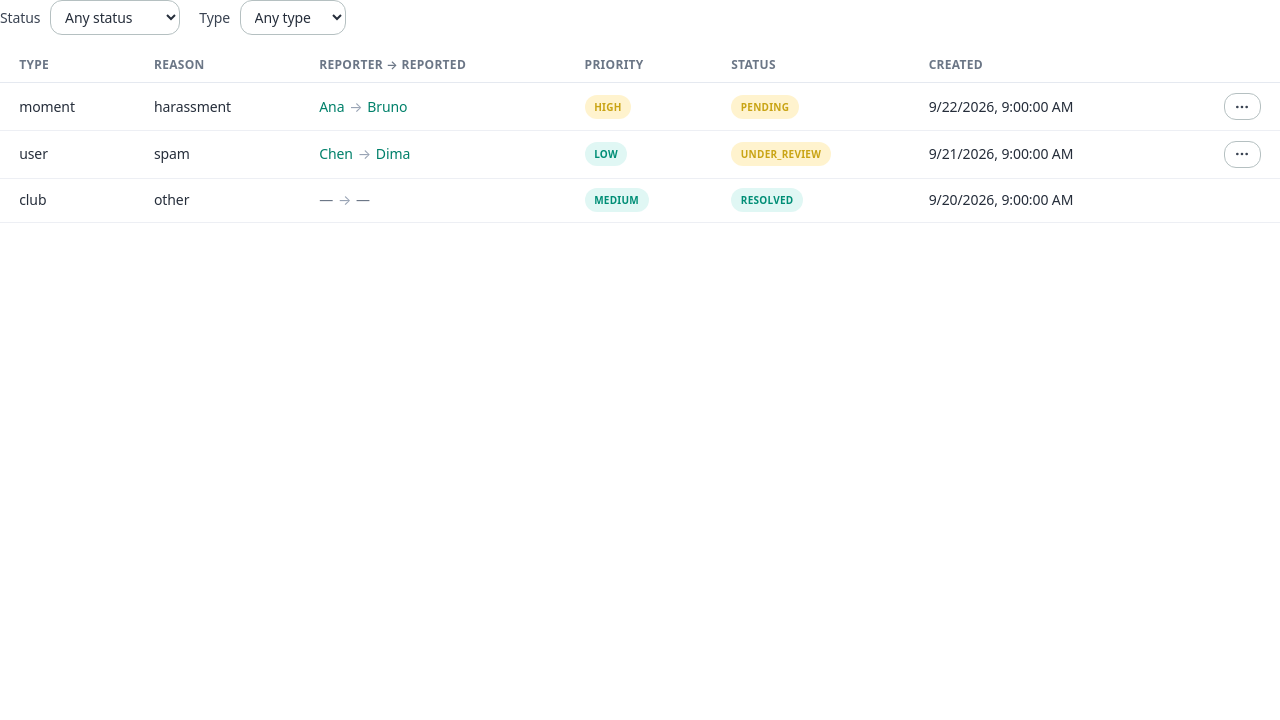
Test case: resolves with the chosen moderator action and notes
This screenshot has width=1280, height=720.
Click the button named "Report actions" in the row of "moment" at [1242, 107], box [1224, 93, 1261, 120]
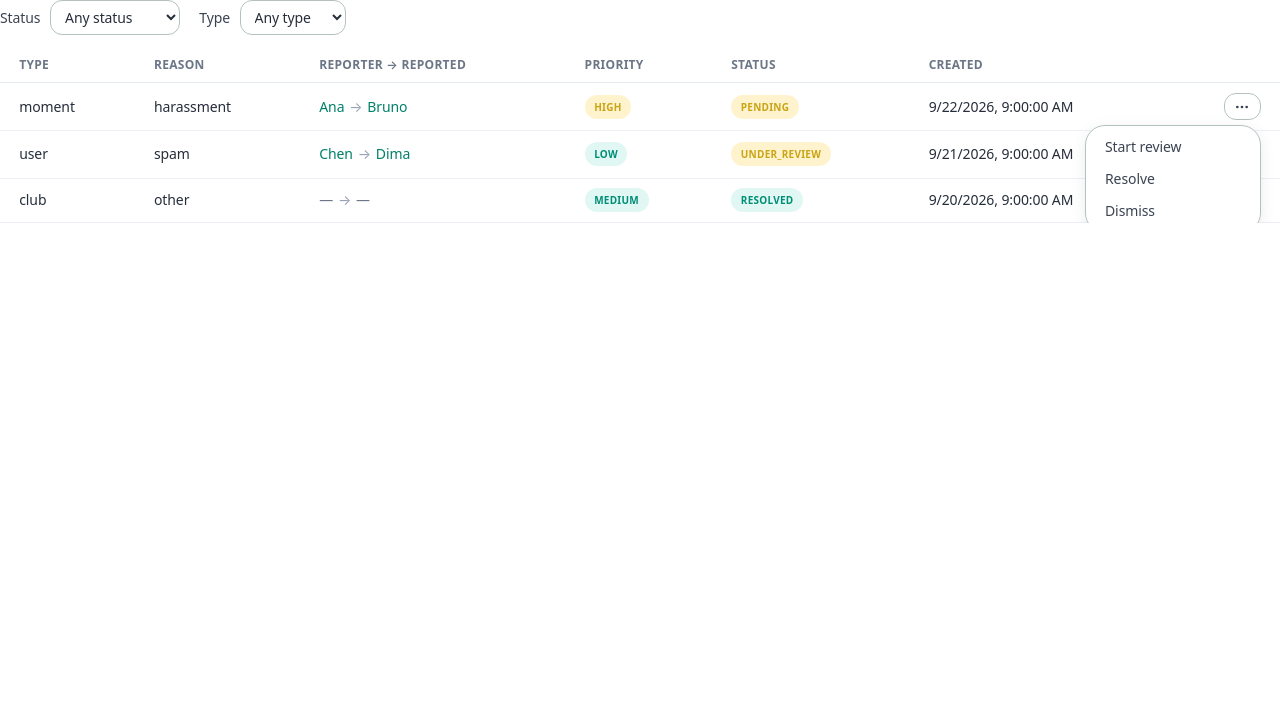
Click the menu item with test id "report-resolve-r1" at [1173, 179], box [1086, 163, 1260, 195]
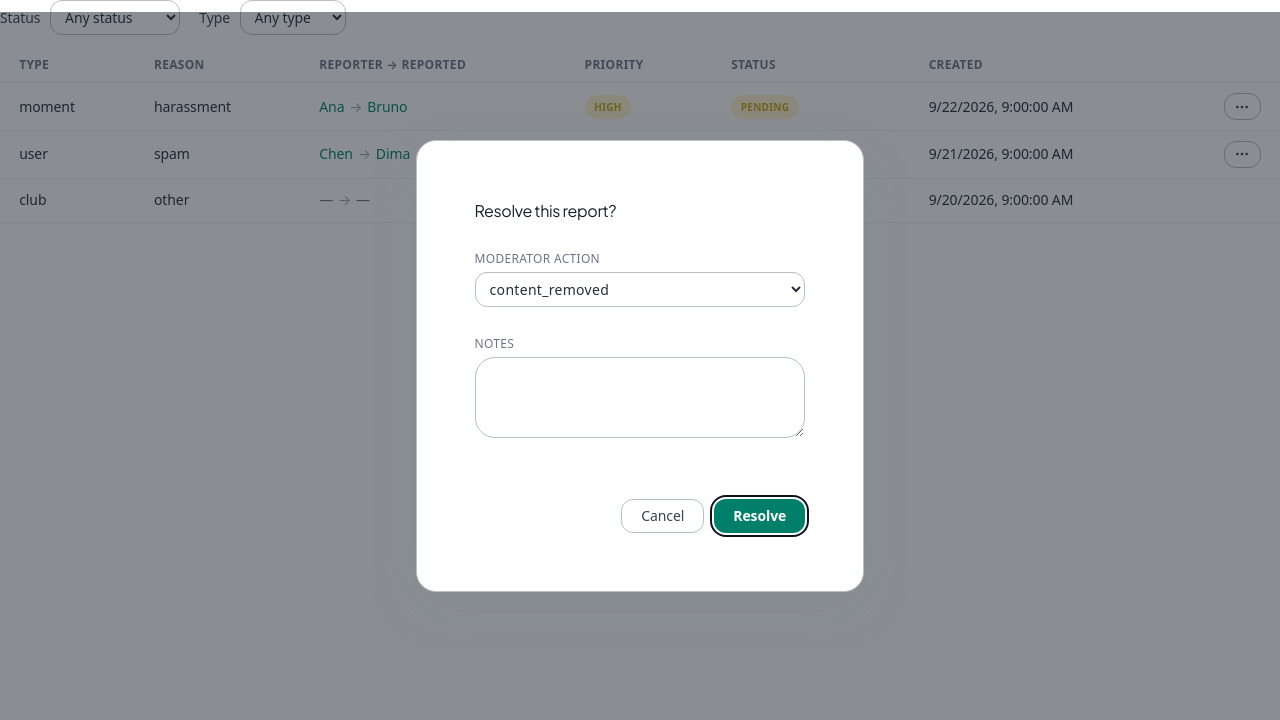
Select "user_banned" in the dropdown with test id "resolve-action" at [640, 290], box [475, 272, 805, 307]
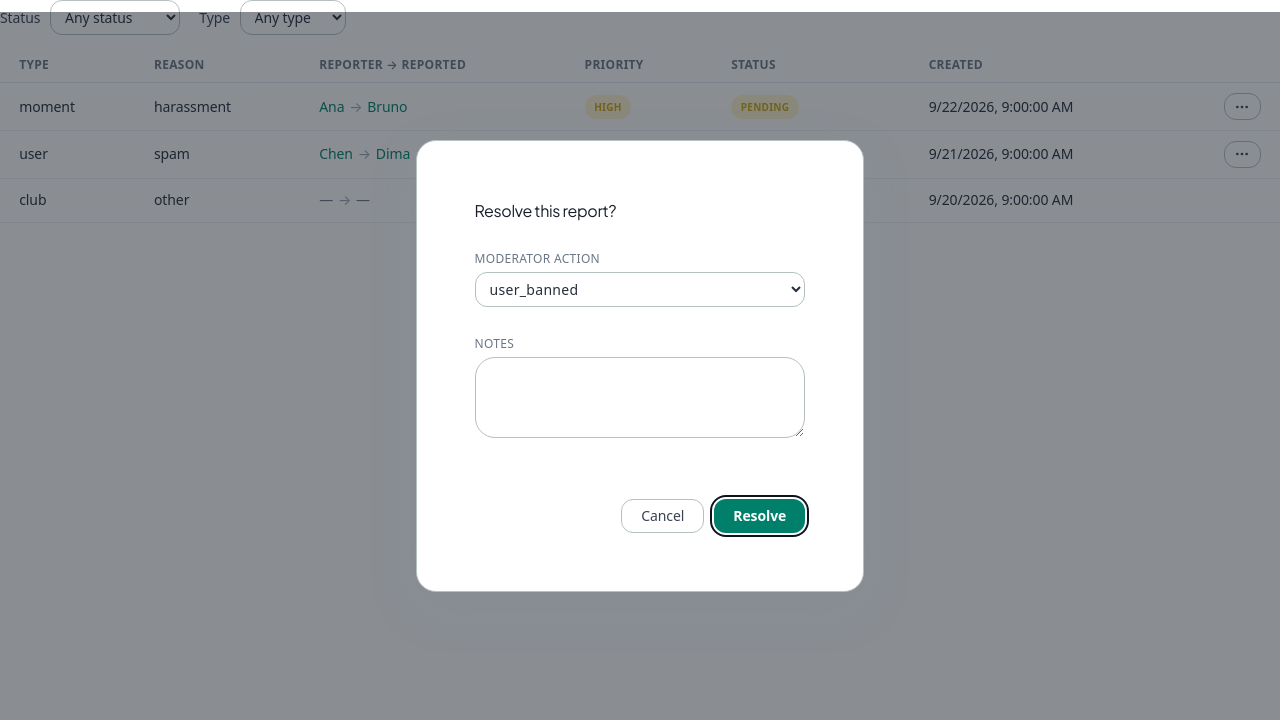
Type "repeat offender" into the text box with test id "confirm-dialog-reason" at [640, 397], box [475, 357, 805, 438]
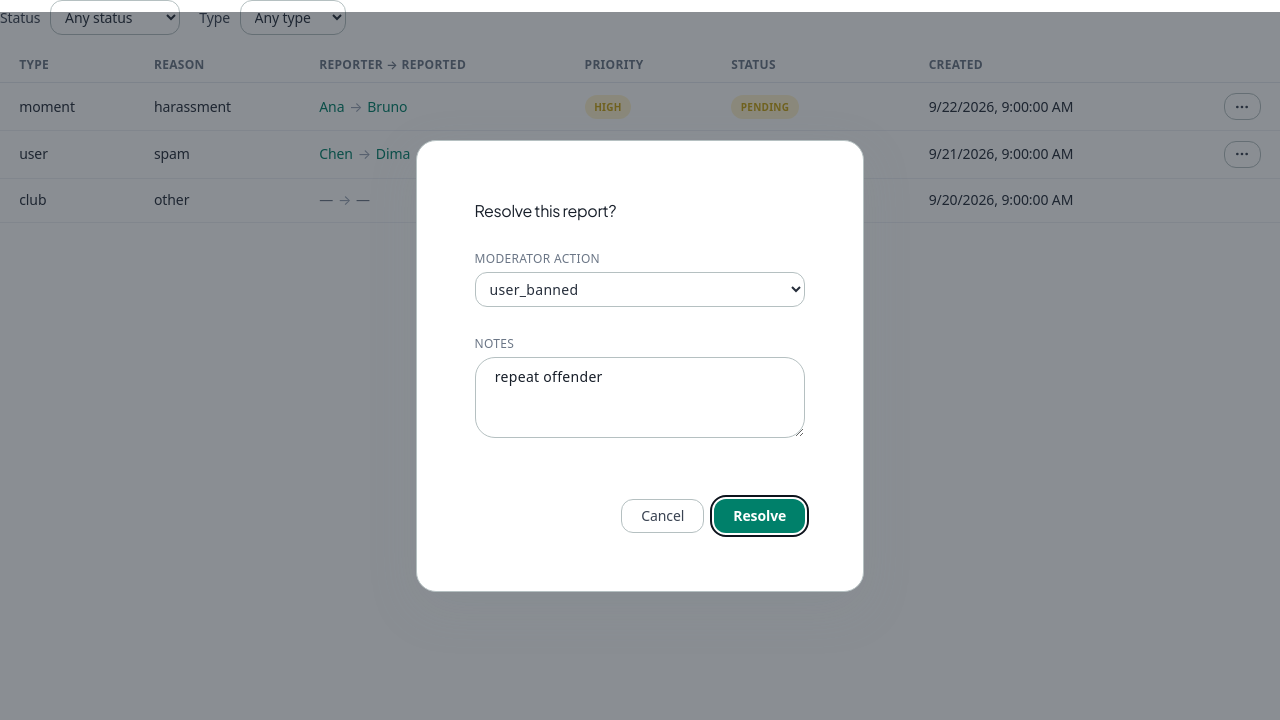
Click the button with test id "confirm-dialog-confirm" at [760, 516], box [714, 500, 805, 534]
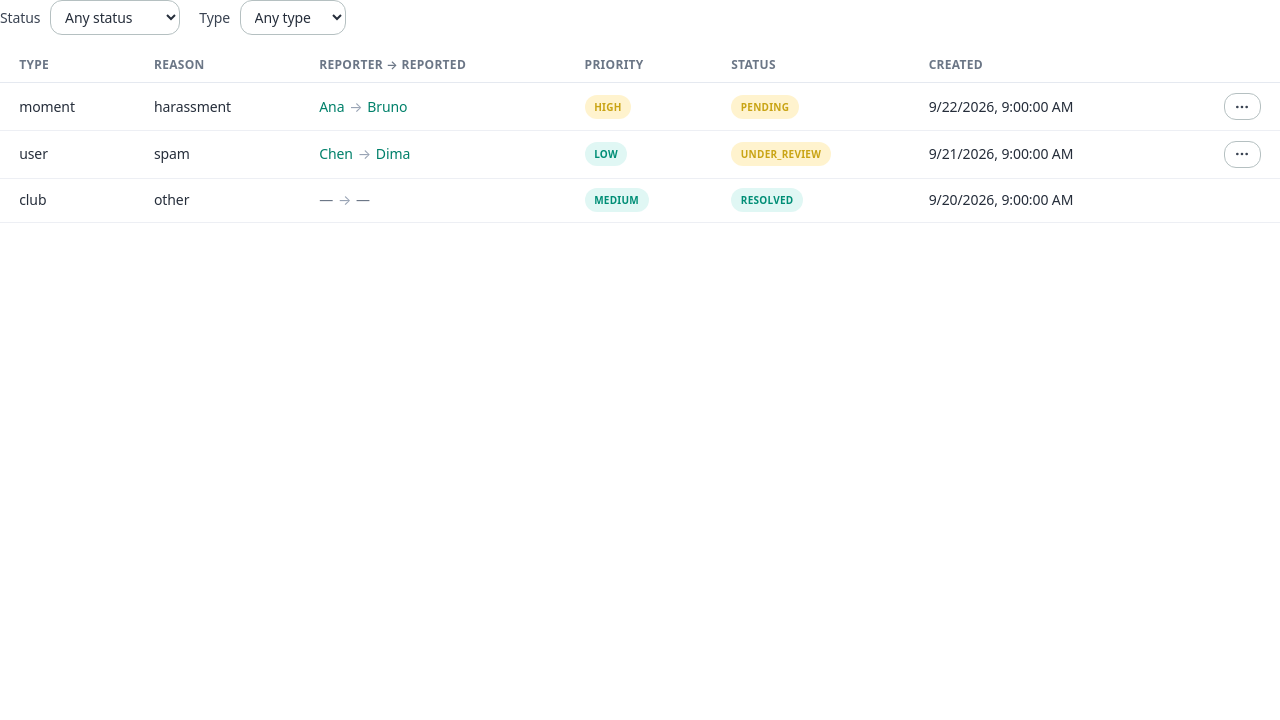
Expected: the dialog with test id "confirm-dialog" is gone
